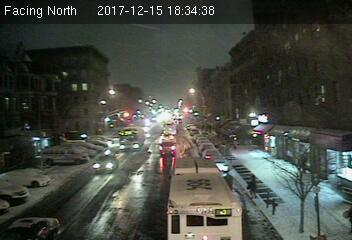bus: (169, 159, 246, 240), (117, 125, 146, 150)
car: (93, 152, 118, 171), (159, 140, 176, 154)
